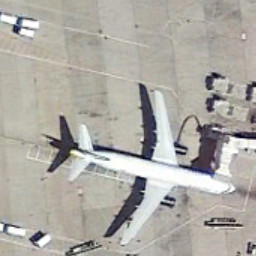Airplane: (42, 61, 247, 254)
